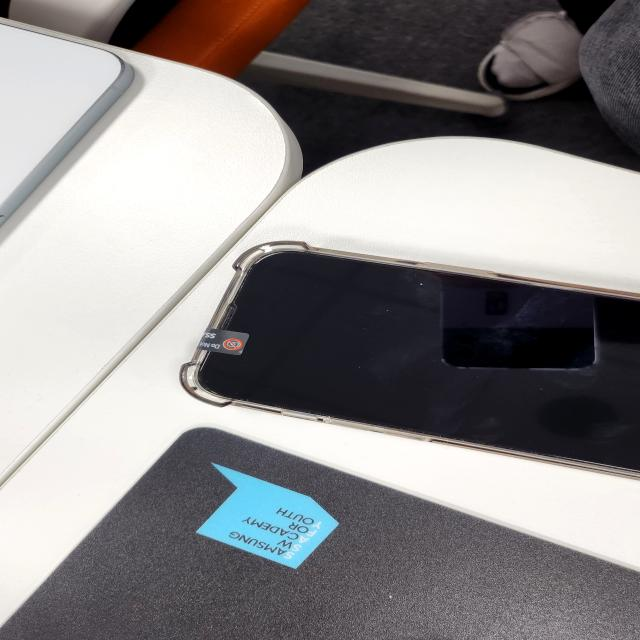phone: (169, 234, 640, 485), (196, 328, 250, 356)
